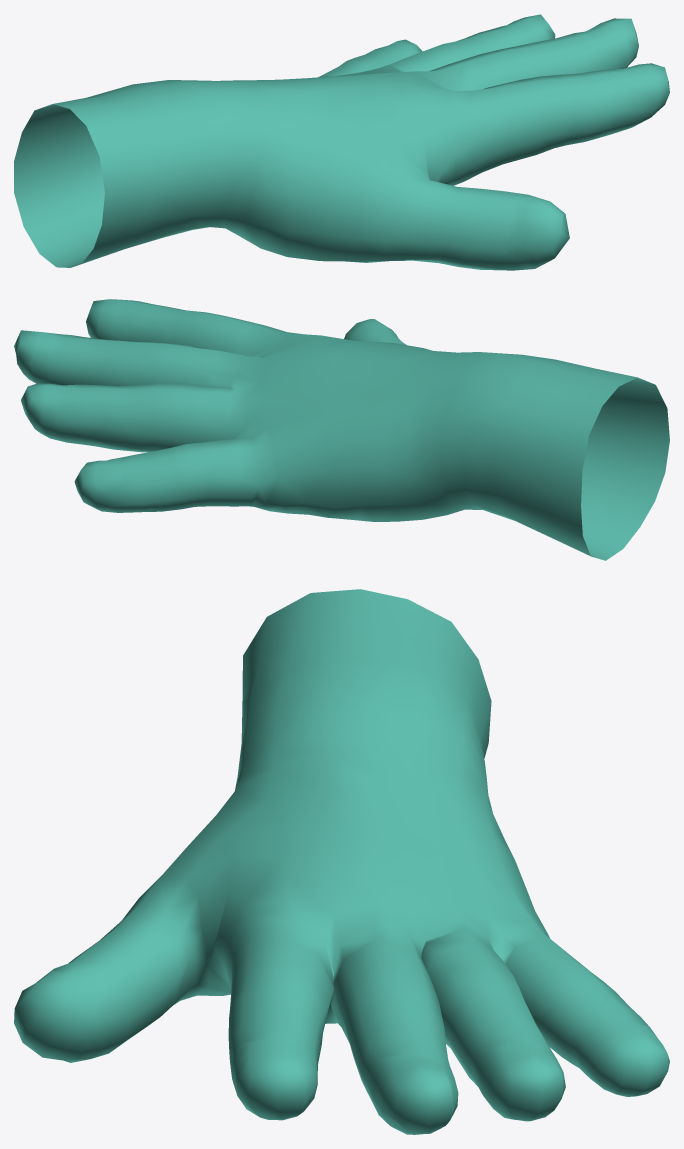
The model's file is glove_l_basic_model.fbx.
The picture shows the model from 3 angles, top to bottom: view 1: azimuth 30°, elevation 25°; view 2: azimuth 150°, elevation 25°; view 3: azimuth 270°, elevation 25°; orthographic projection. The views are drawn at different scales.
Visible parts, largest first — view 1: glove_l_right; view 2: glove_l_right; view 3: glove_l_right.
Part boxes in pixels (x1,y1,x2,y2): glove_l_right: (14, 14, 669, 270); glove_l_right: (14, 299, 669, 560); glove_l_right: (14, 589, 669, 1134).
Size of the model in its own units: 49.97 by 13.66 by 33.91.
